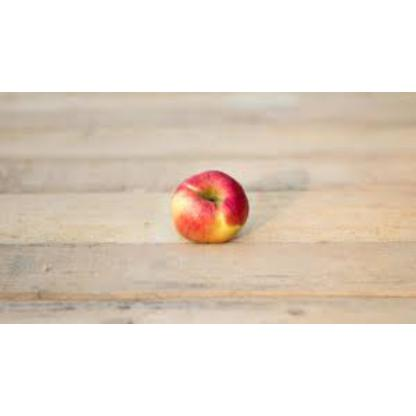apple: (187, 182, 249, 238)
